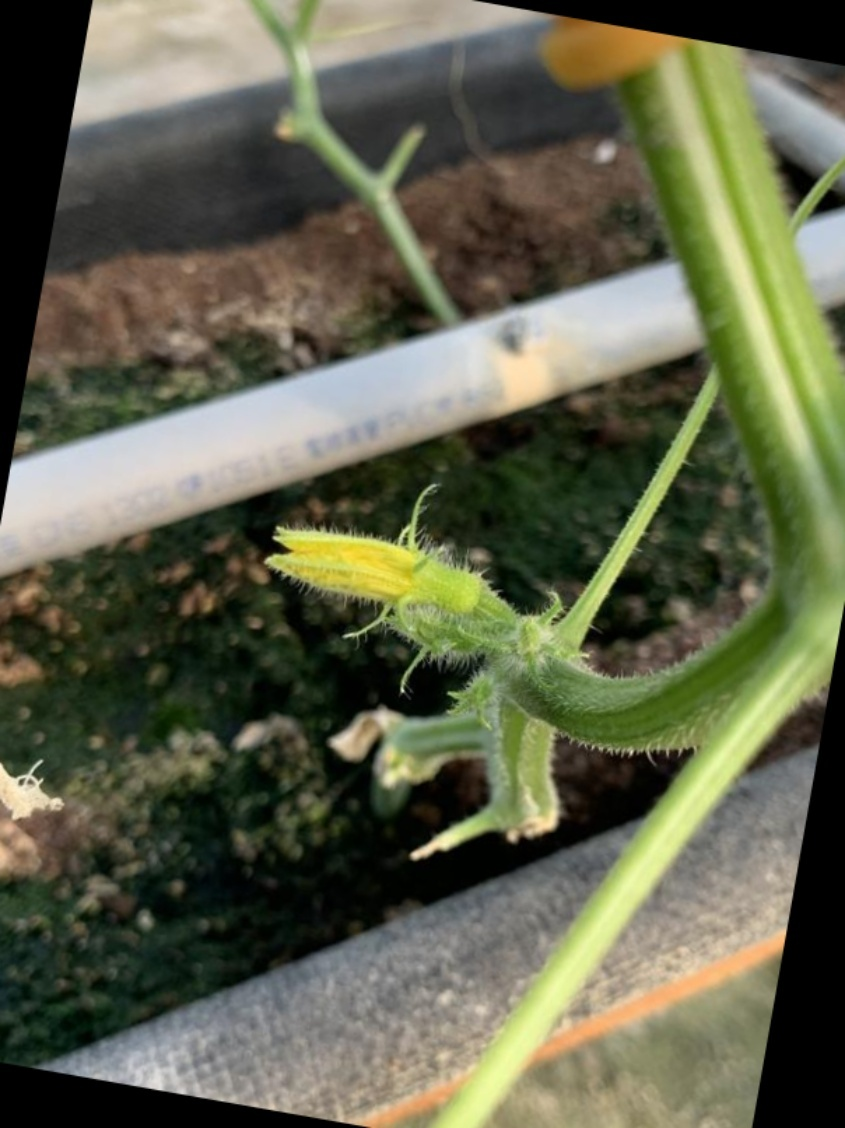bud: (264, 523, 499, 641)
